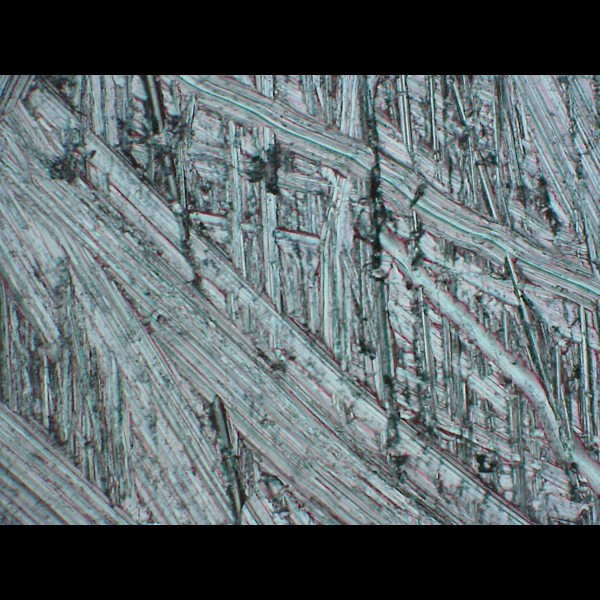d: (0, 79, 594, 524)
